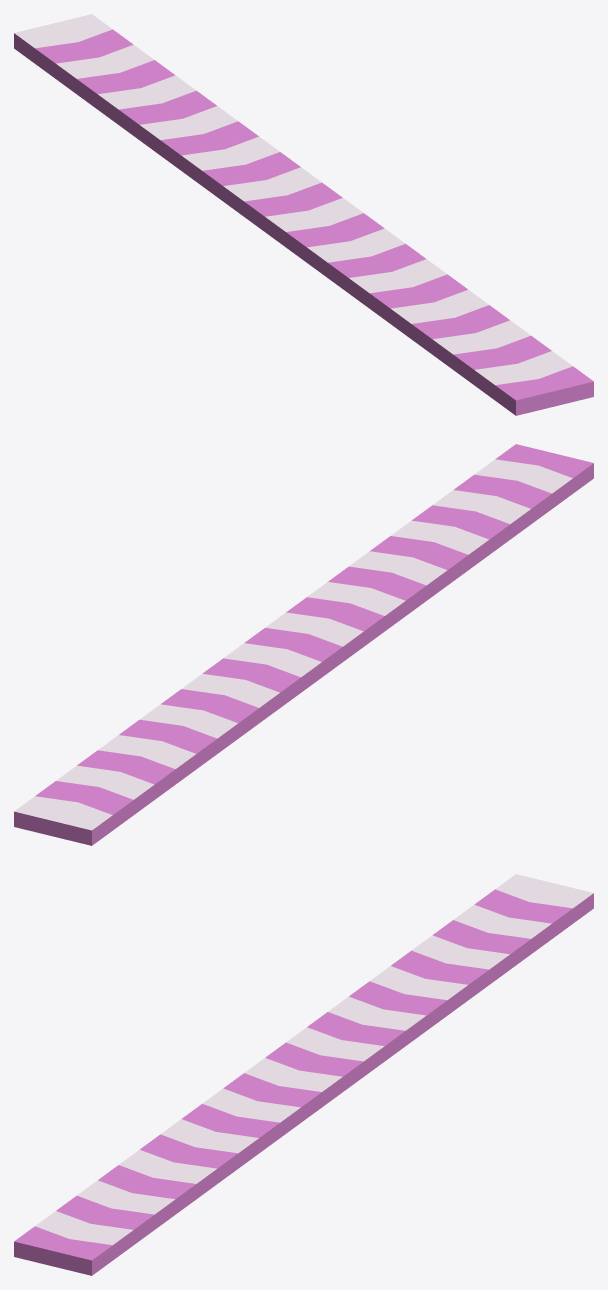
Rendered from Road.fbx.
3 renders of one model, top to bottom at view 1: azimuth 30°, elevation 25°; view 2: azimuth 150°, elevation 25°; view 3: azimuth 330°, elevation 25°, orthographic.
Parts seen in each view (by area): view 1: Cube; view 2: Cube; view 3: Cube.
Boxes of the visible parts, x1,y1,x2,y2 form: Cube: (14,14,593,415); Cube: (14,444,593,845); Cube: (14,874,593,1275).
Size of the model in its own units: 300 by 56.72 by 3347.
